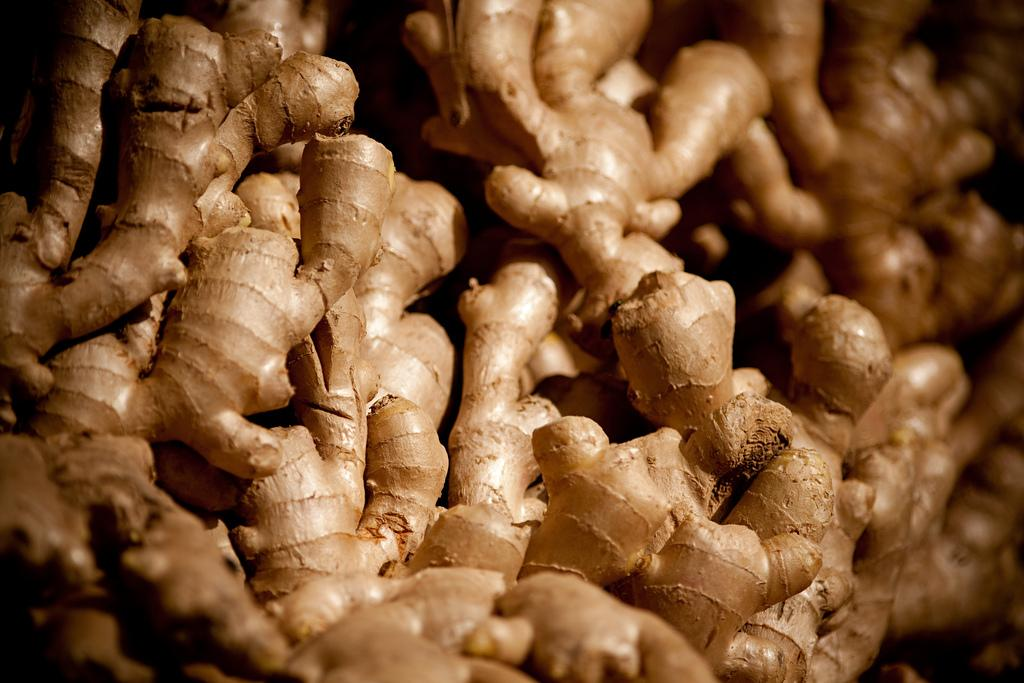ginger: (2, 1, 1019, 680), (31, 129, 397, 481), (412, 0, 778, 335), (516, 403, 832, 669)
